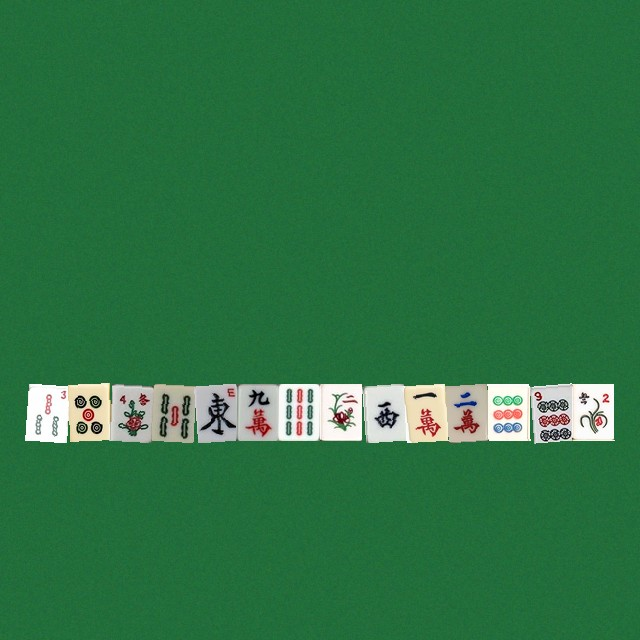tile: (25, 383, 67, 440), (67, 383, 109, 440), (109, 383, 151, 440), (151, 383, 193, 440), (193, 383, 235, 440), (235, 383, 277, 440), (277, 383, 319, 440), (319, 383, 361, 440), (361, 383, 403, 440), (403, 383, 445, 440), (445, 383, 487, 440), (487, 383, 529, 440), (529, 383, 571, 440), (571, 383, 613, 440)
